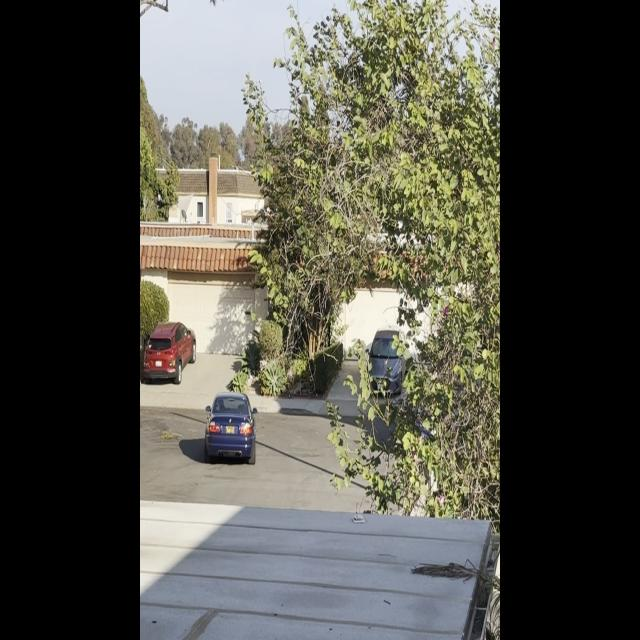Carbeetle: (198, 385, 259, 468)
Civilian: (140, 318, 199, 383), (363, 320, 409, 403)
